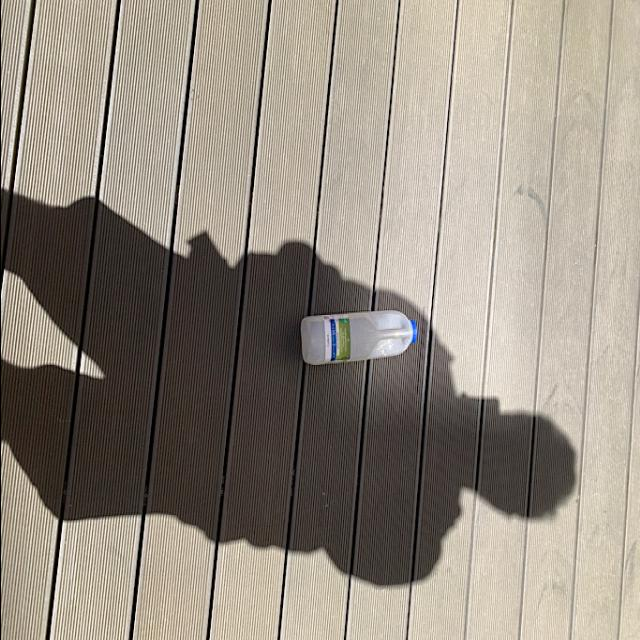HDPEM: (298, 310, 416, 369)
